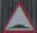Speed Breaker ahead: (2, 1, 35, 32)
